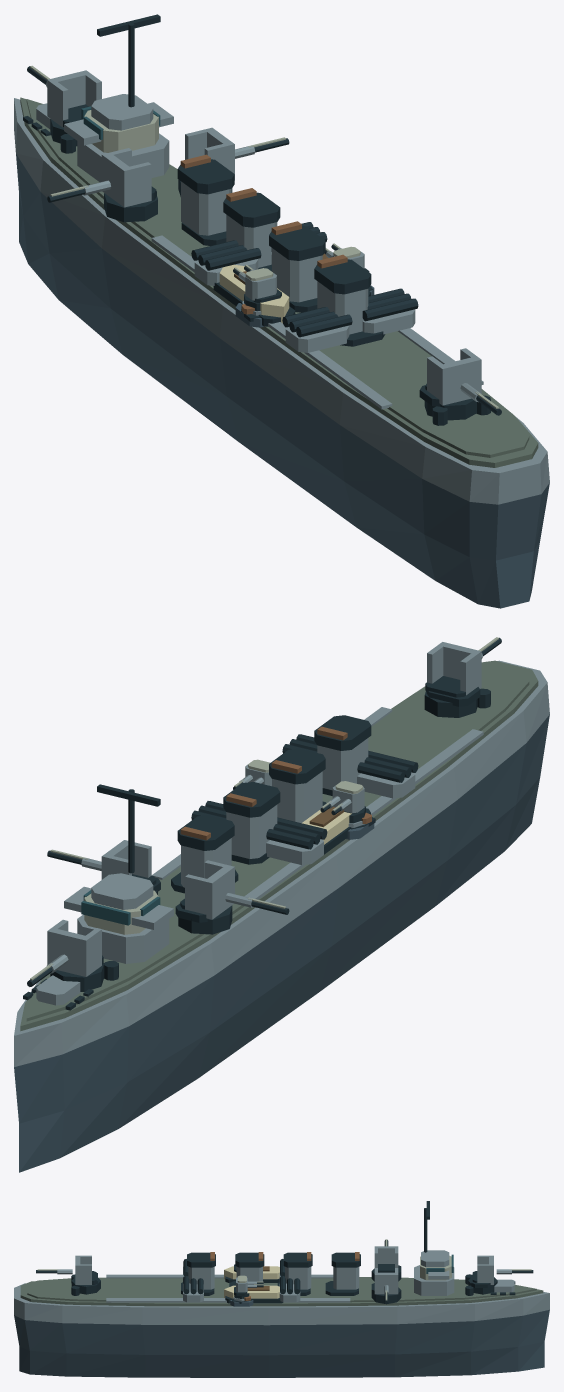
The model's file is historic-caldwell.glb.
The picture shows the model from 3 angles, top to bottom: view 1: azimuth 30°, elevation 25°; view 2: azimuth 150°, elevation 25°; view 3: azimuth 270°, elevation 25°; orthographic projection. The views are drawn at different scales.
Parts seen in each view (by area): view 1: historic-caldwell-historic-caldwell-geometry, historic-caldwell-part_bridge.119-geometry, historic-caldwell-historic_funnel_0.112-geometry, historic-caldwell-turret_main_2.067-geometry, historic-caldwell-historic_funnel_2.008-geometry, historic-caldwell-turret_main_1.081-geometry, historic-caldwell-historic_funnel_3.005-geometry, historic-caldwell-historic_funnel_1.062-geometry, historic-caldwell-turret_main_0.088-geometry, historic-caldwell-torpedo_bank_0.028-geometry, historic-caldwell-torpedo_bank_1.025-geometry, historic-caldwell-turret_main_3.042-geometry (+2 smaller); view 2: historic-caldwell-historic-caldwell-geometry, historic-caldwell-part_bridge.119-geometry, historic-caldwell-turret_main_1.081-geometry, historic-caldwell-turret_main_2.067-geometry, historic-caldwell-historic_funnel_1.062-geometry, historic-caldwell-turret_main_0.088-geometry, historic-caldwell-historic_funnel_2.008-geometry, historic-caldwell-historic_funnel_3.005-geometry, historic-caldwell-historic_funnel_0.112-geometry, historic-caldwell-torpedo_bank_2.006-geometry, historic-caldwell-torpedo_bank_0.028-geometry, historic-caldwell-turret_main_3.042-geometry (+1 smaller); view 3: historic-caldwell-historic-caldwell-geometry, historic-caldwell-part_bridge.119-geometry, historic-caldwell-historic_funnel_0.112-geometry, historic-caldwell-turret_main_0.088-geometry, historic-caldwell-turret_main_1.081-geometry, historic-caldwell-historic_funnel_1.062-geometry, historic-caldwell-historic_funnel_3.005-geometry, historic-caldwell-turret_main_3.042-geometry, historic-caldwell-historic_funnel_2.008-geometry, historic-caldwell-turret_main_2.067-geometry, historic-caldwell-torpedo_bank_1.025-geometry, historic-caldwell-torpedo_bank_3.003-geometry (+1 smaller).
Part boxes in pixels (box(x1,y1,x2,y2)): historic-caldwell-historic-caldwell-geometry: box(14, 97, 549, 608); historic-caldwell-part_bridge.119-geometry: box(64, 14, 173, 182); historic-caldwell-historic_funnel_0.112-geometry: box(177, 154, 234, 245); historic-caldwell-turret_main_2.067-geometry: box(47, 148, 157, 222); historic-caldwell-historic_funnel_2.008-geometry: box(269, 221, 325, 312); historic-caldwell-turret_main_1.081-geometry: box(419, 348, 501, 420); historic-caldwell-historic_funnel_3.005-geometry: box(314, 254, 385, 346); historic-caldwell-historic_funnel_1.062-geometry: box(223, 188, 280, 271); historic-caldwell-turret_main_0.088-geometry: box(27, 65, 101, 146); historic-caldwell-torpedo_bank_0.028-geometry: box(282, 307, 352, 352); historic-caldwell-torpedo_bank_1.025-geometry: box(362, 288, 418, 334); historic-caldwell-turret_main_3.042-geometry: box(178, 127, 289, 196); historic-caldwell-historic-caldwell-geometry: box(14, 660, 549, 1172); historic-caldwell-part_bridge.119-geometry: box(64, 784, 173, 963); historic-caldwell-turret_main_1.081-geometry: box(424, 637, 501, 717); historic-caldwell-turret_main_2.067-geometry: box(175, 860, 289, 934); historic-caldwell-historic_funnel_1.062-geometry: box(223, 782, 280, 864); historic-caldwell-turret_main_0.088-geometry: box(27, 919, 104, 991); historic-caldwell-historic_funnel_2.008-geometry: box(269, 748, 326, 823); historic-caldwell-historic_funnel_3.005-geometry: box(314, 715, 371, 795); historic-caldwell-historic_funnel_0.112-geometry: box(171, 815, 238, 893); historic-caldwell-torpedo_bank_2.006-geometry: box(266, 817, 327, 864); historic-caldwell-torpedo_bank_0.028-geometry: box(357, 750, 418, 798); historic-caldwell-turret_main_3.042-geometry: box(47, 840, 160, 894); historic-caldwell-historic-caldwell-geometry: box(14, 1266, 549, 1377); historic-caldwell-part_bridge.119-geometry: box(414, 1201, 454, 1295); historic-caldwell-historic_funnel_0.112-geometry: box(325, 1252, 360, 1295); historic-caldwell-turret_main_0.088-geometry: box(468, 1255, 533, 1294); historic-caldwell-turret_main_1.081-geometry: box(36, 1255, 100, 1294); historic-caldwell-historic_funnel_1.062-geometry: box(277, 1252, 312, 1295); historic-caldwell-historic_funnel_3.005-geometry: box(181, 1252, 215, 1295); historic-caldwell-turret_main_3.042-geometry: box(371, 1268, 401, 1304); historic-caldwell-historic_funnel_2.008-geometry: box(229, 1252, 264, 1286); historic-caldwell-turret_main_2.067-geometry: box(371, 1239, 401, 1281); historic-caldwell-torpedo_bank_1.025-geometry: box(183, 1276, 203, 1302); historic-caldwell-torpedo_bank_3.003-geometry: box(279, 1276, 300, 1302).
Bounding box in the file's own units: 1.12 × 1.34 × 4.11.
